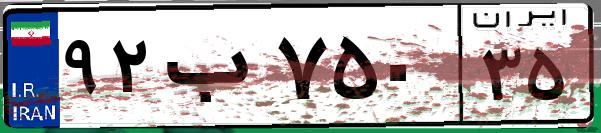0: (385, 28, 445, 110)
2: (110, 28, 158, 98)
3: (475, 38, 525, 113)
5: (330, 28, 385, 110), (525, 38, 570, 115)
7: (270, 28, 330, 110)
9: (57, 26, 110, 100)
ب: (158, 20, 270, 120)
